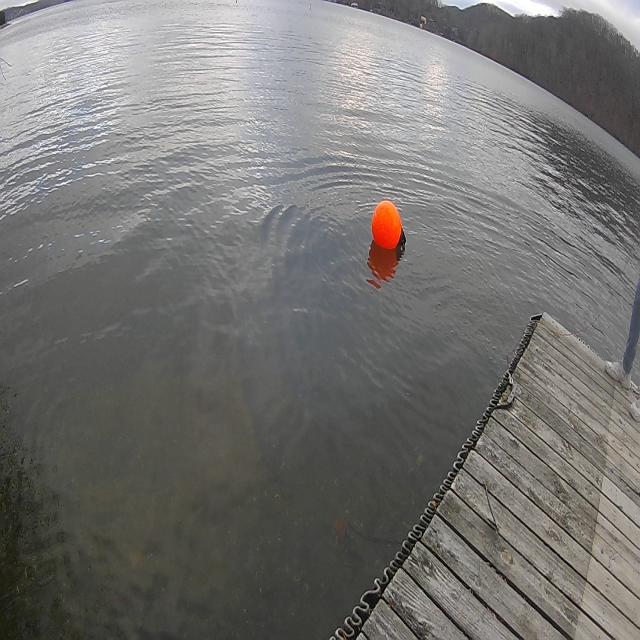Buoy: (368, 194, 409, 260)
